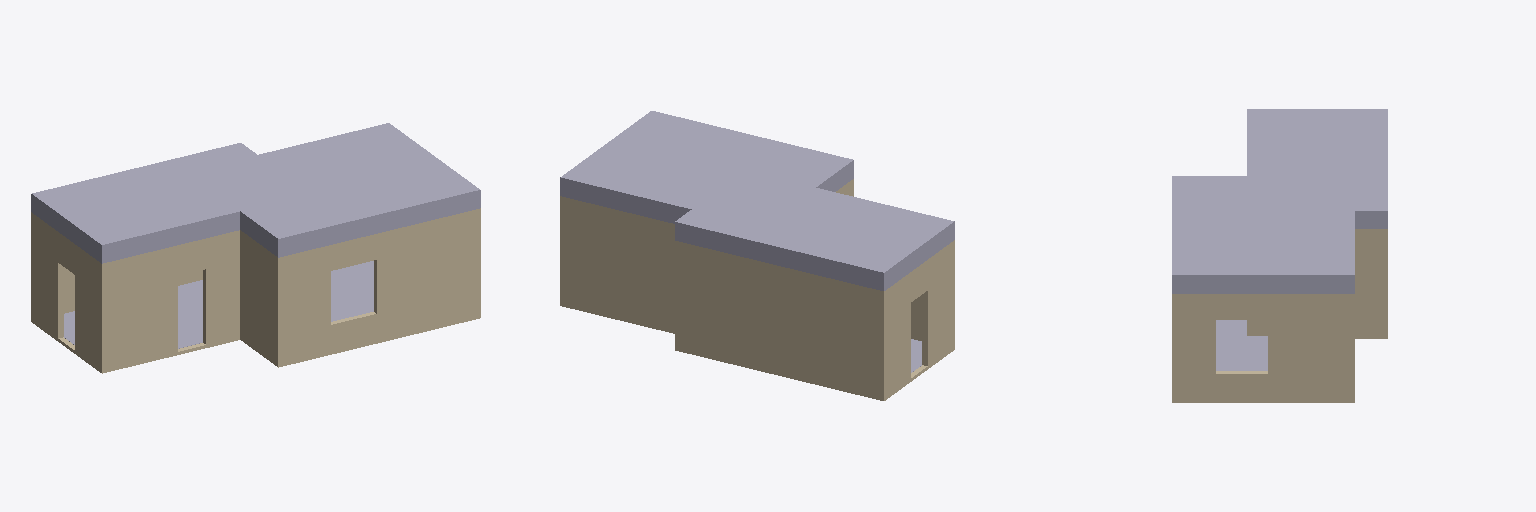
The picture shows the model from 3 angles: view 1: azimuth 30°, elevation 25°; view 2: azimuth 150°, elevation 25°; view 3: azimuth 270°, elevation 25°; orthographic projection.
Visible parts, largest first — view 1: wall, ceil, rfloor; view 2: wall, ceil; view 3: ceil, wall, rfloor.
Part boxes in pixels (left/top/right/bottom): wall: left=31, top=208, right=480, bottom=373; ceil: left=31, top=123, right=480, bottom=263; rfloor: left=64, top=261, right=373, bottom=348; wall: left=560, top=179, right=954, bottom=400; ceil: left=560, top=111, right=954, bottom=290; ceil: left=1172, top=109, right=1387, bottom=293; wall: left=1172, top=229, right=1387, bottom=402; rfloor: left=1216, top=320, right=1267, bottom=370.
Size of the model in its own units: 467 by 168 by 257.